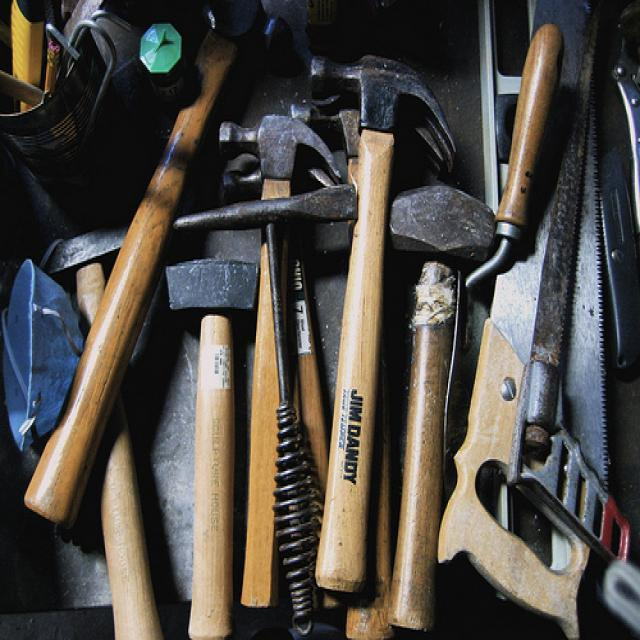hammer: (302, 39, 458, 639), (210, 107, 354, 612), (376, 175, 498, 640)
